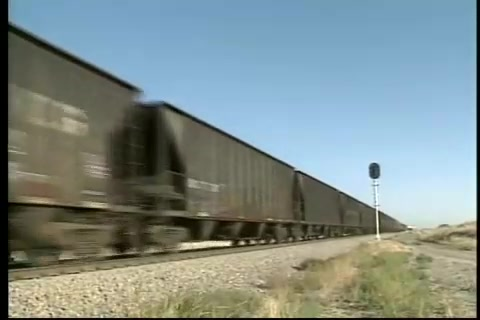train: (11, 22, 410, 269)
